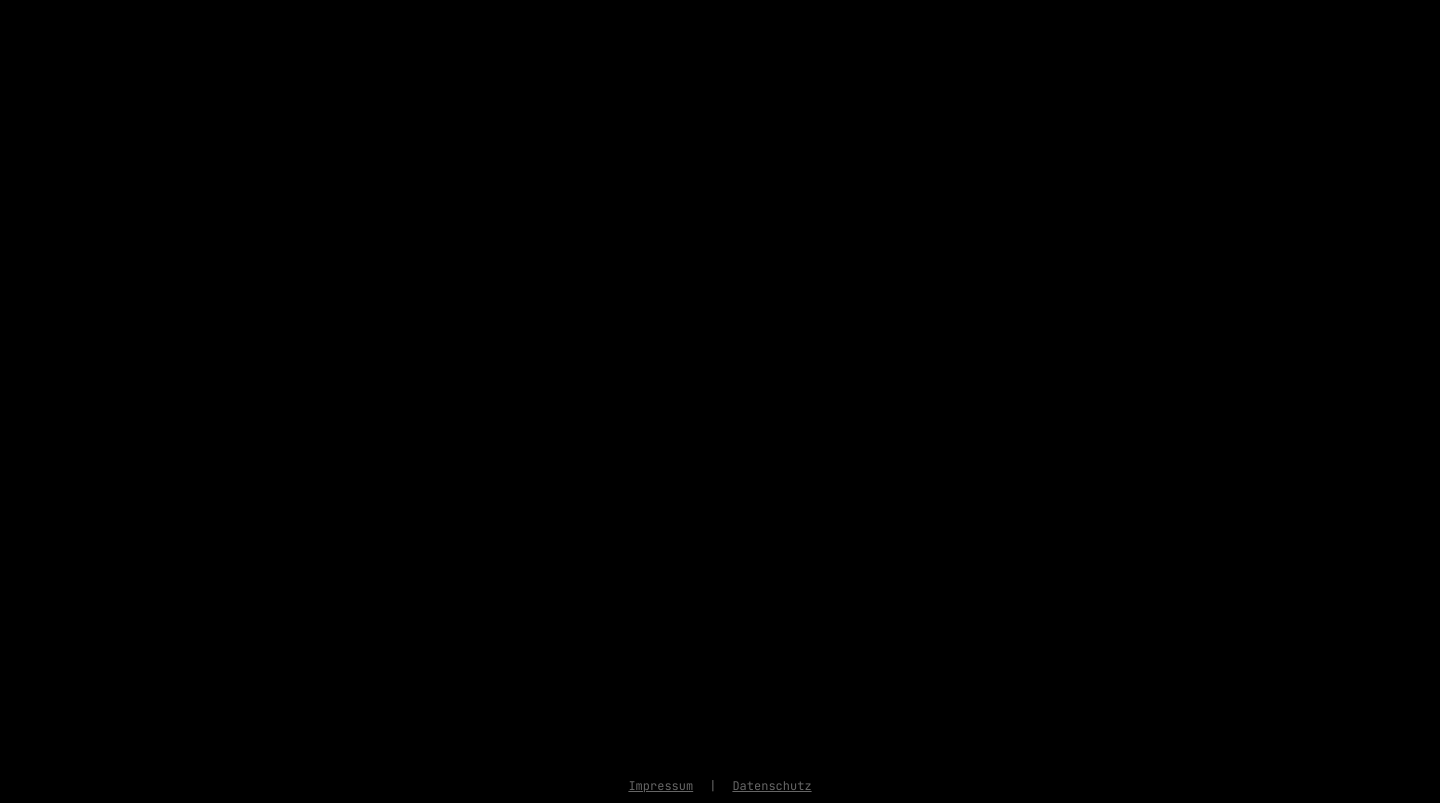
App — autosave resume flow › names the campaign of the save in the resume line, and resumes INTO it
Press Enter
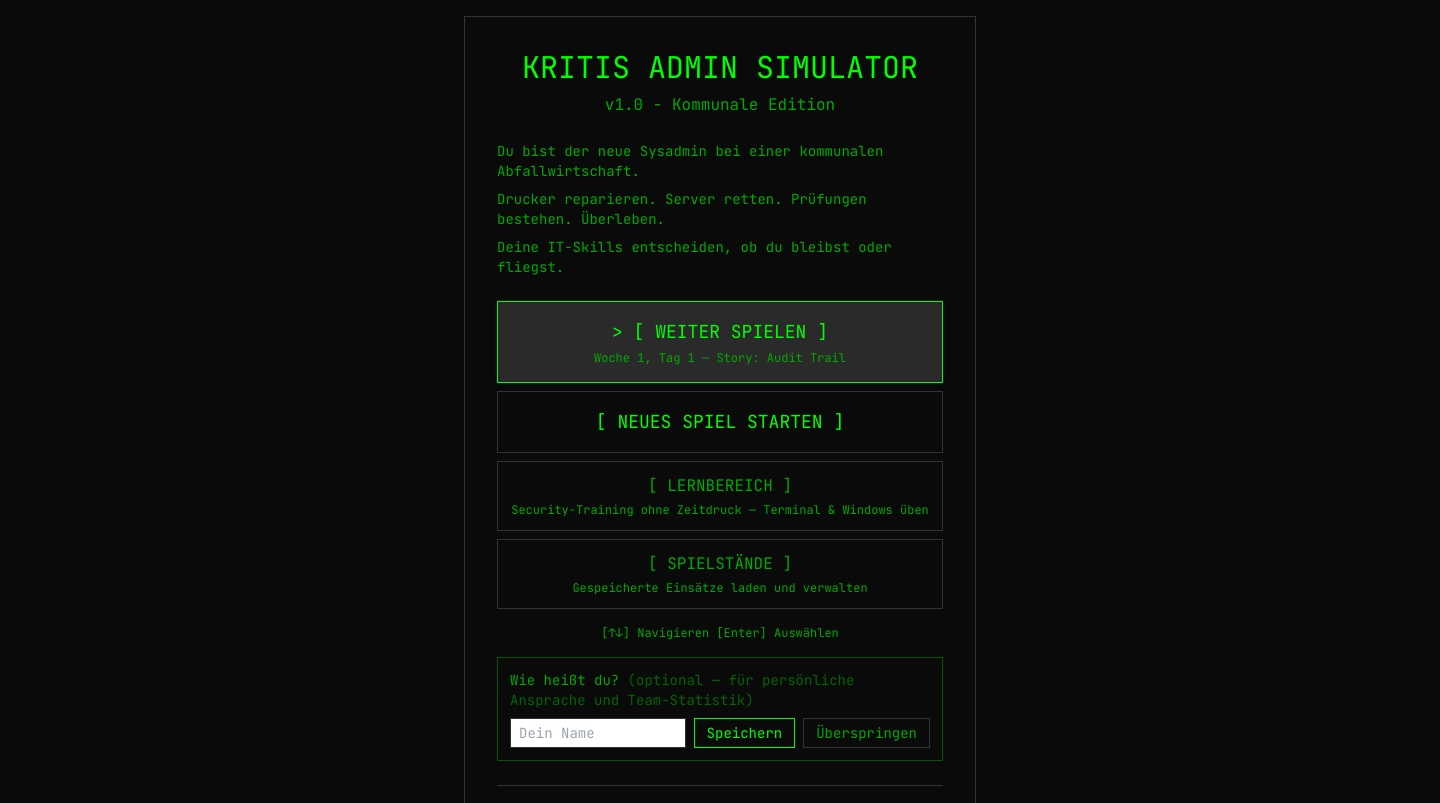
Expected: the text "Woche 1, Tag 1 — Story: Audit Trail" is shown, [594,350,846,366]
Click the button "> [ WEITER SPIELEN ] Woche 1, Tag 1 — Story: Audit Trail" at (720, 342), box [497,301,943,383]
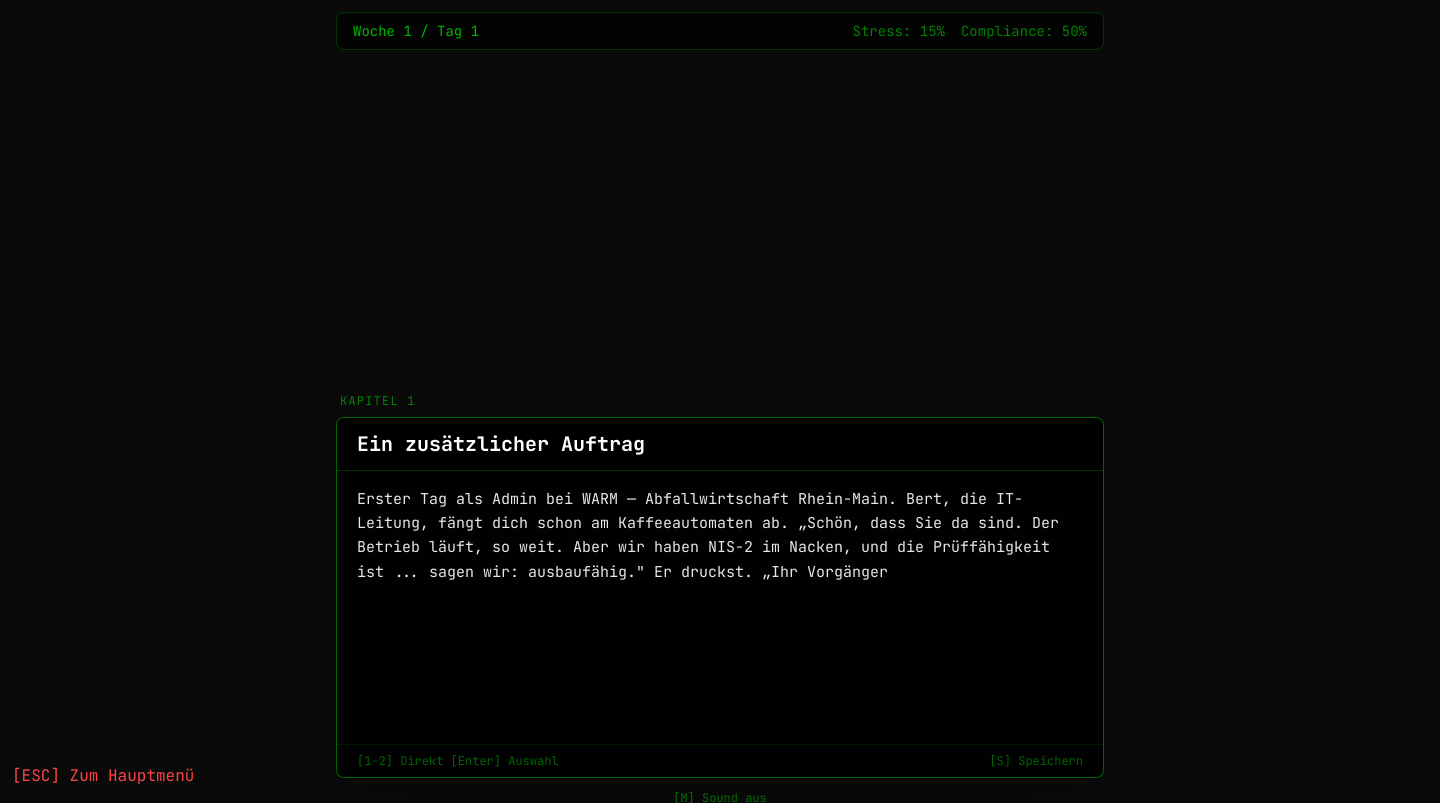
Expected: the heading "Ein zusätzlicher Auftrag" is shown, [357,430,645,456]
